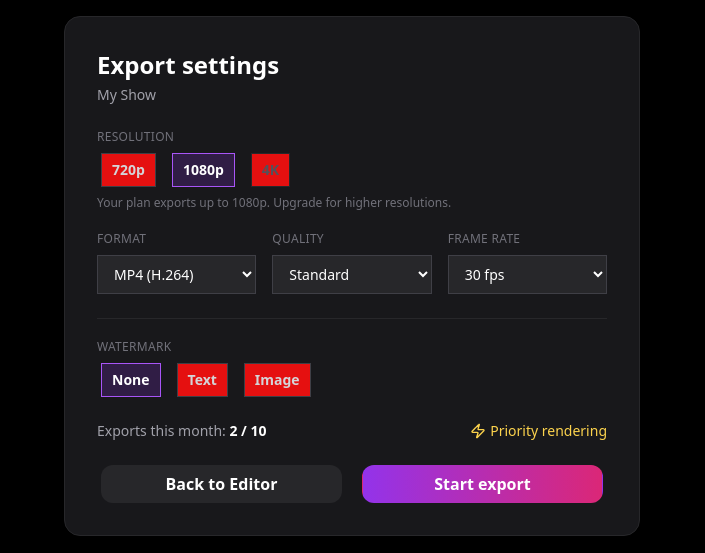
Test case: RenderAndUploadPage export settings › starts with the chosen settings
Click the button "720p" at (128, 170), box [101, 153, 156, 187]
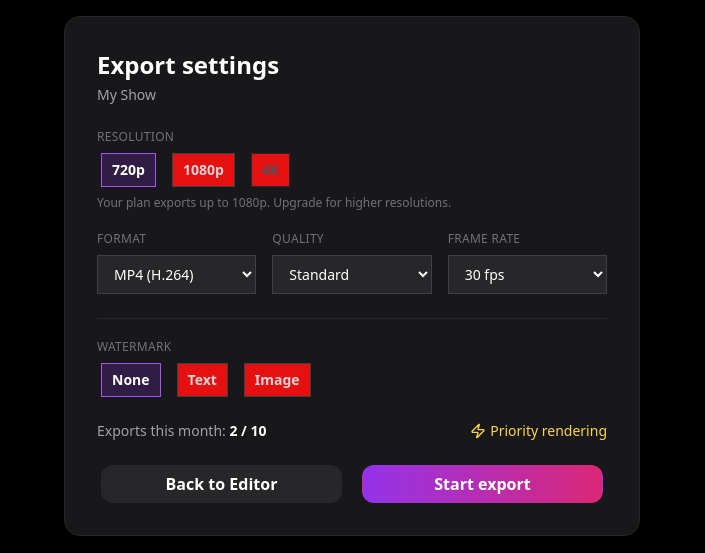
Select "High (slower, larger)" in the dropdown labelled "Quality" at (352, 274), box [272, 255, 432, 294]
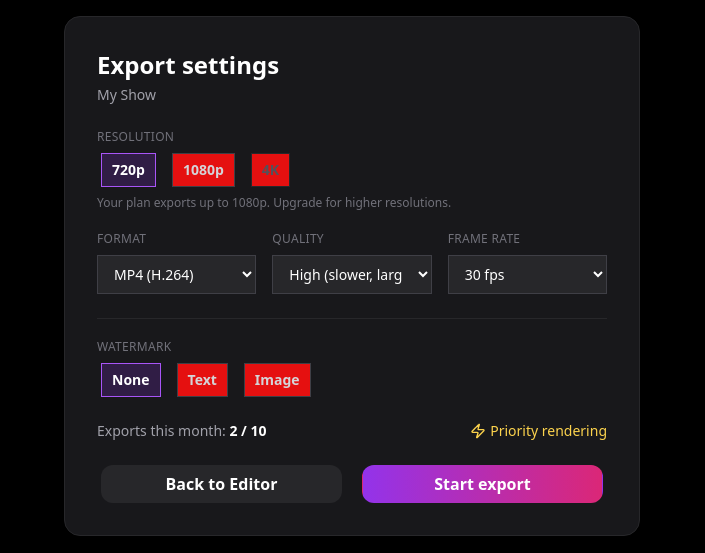
Select "60 fps" in the dropdown labelled "Frame rate" at (527, 274), box [448, 255, 607, 294]
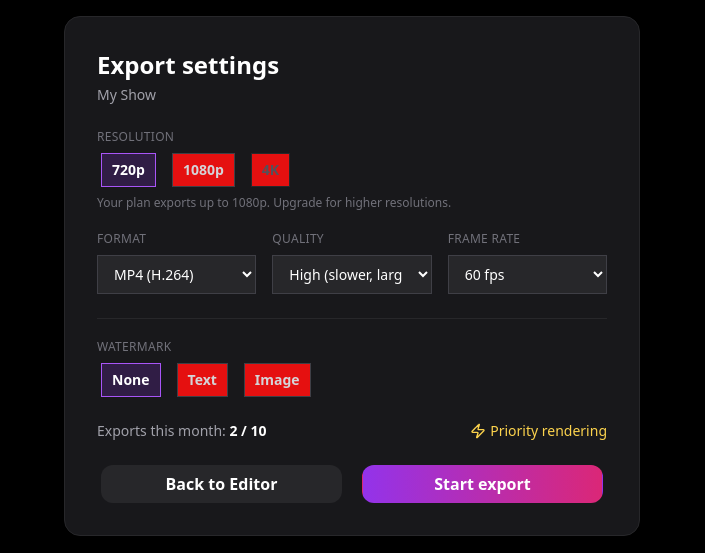
Click the button with test id "start-export" at (482, 484), box [362, 465, 603, 503]
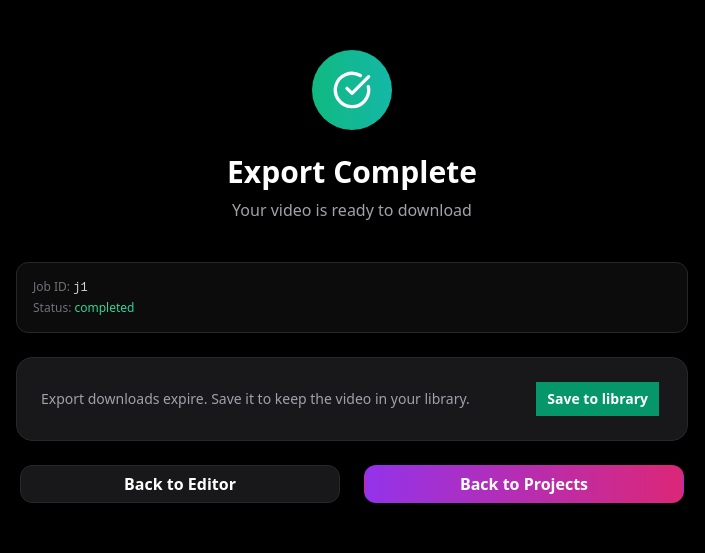
Now the heading "Export Complete" is shown, box [227, 150, 477, 192]
